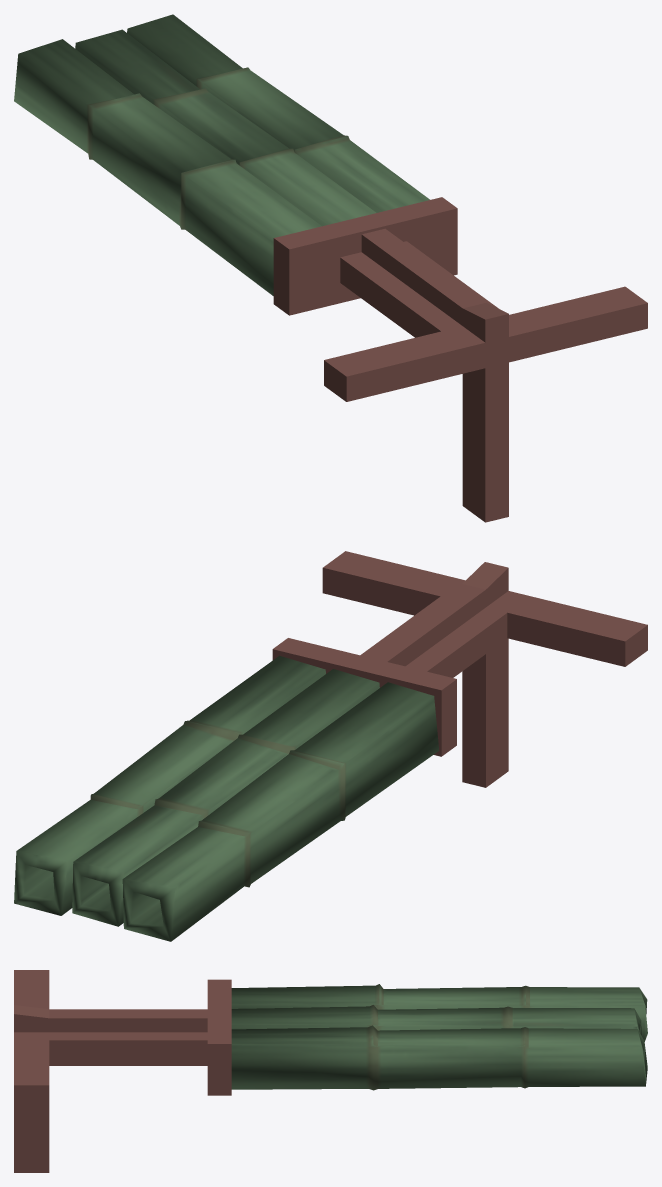
File: bamboo_mid_3.glb
The picture shows the model from 3 angles, top to bottom: view 1: azimuth 30°, elevation 25°; view 2: azimuth 150°, elevation 25°; view 3: azimuth 270°, elevation 25°; orthographic projection. The views are drawn at different scales.
Visible parts, largest first — view 1: Obstacle, Stand.002; view 2: Obstacle, Stand.002; view 3: Obstacle, Stand.002.
Part boxes in pixels (x1,y1,x2,y2): Obstacle: (14, 14, 429, 295); Stand.002: (273, 197, 647, 522); Obstacle: (14, 655, 439, 941); Stand.002: (272, 551, 647, 787); Obstacle: (231, 984, 647, 1090); Stand.002: (14, 970, 231, 1172).
Size of the model in its own units: 1.12 by 0.7223 by 2.61.
Materials: 2 (1 with a texture image).
